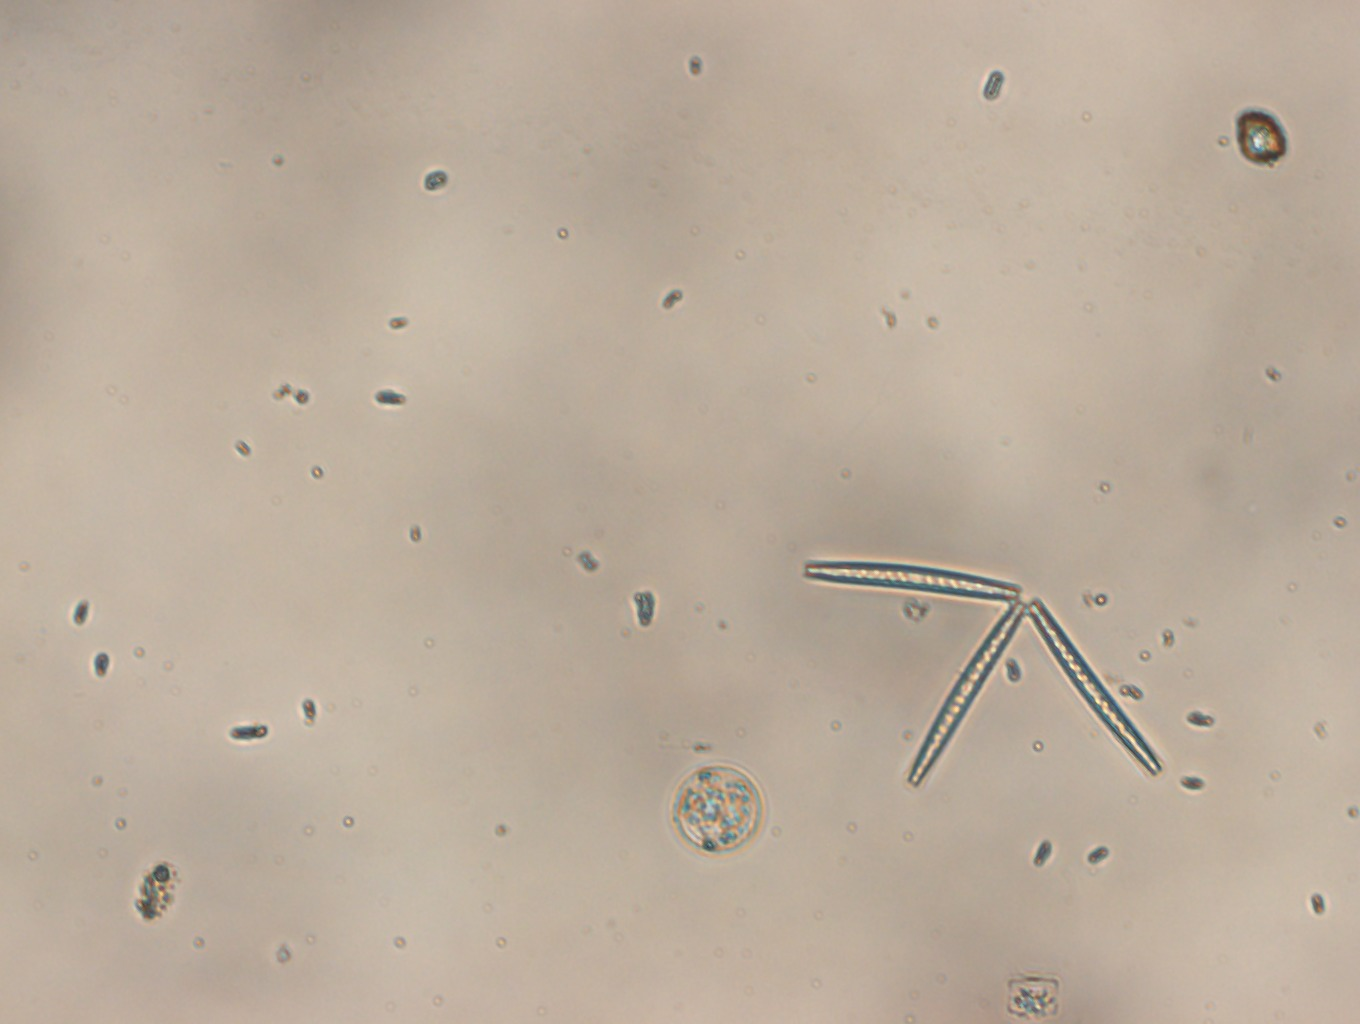thalassionema nitzschioides: (797, 555, 1165, 791)
